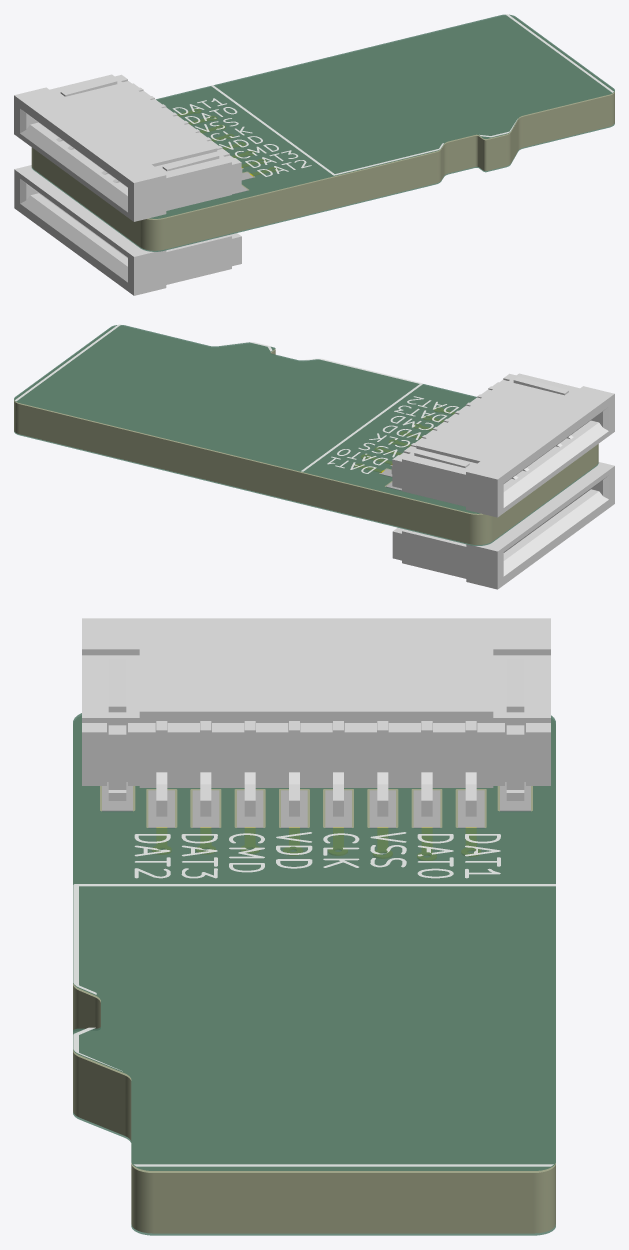
The model's file is board.glb.
3 renders of one model, top to bottom at view 1: azimuth 30°, elevation 25°; view 2: azimuth 150°, elevation 25°; view 3: azimuth 270°, elevation 25°, orthographic. The views are drawn at different scales.
Parts seen in each view (by area): view 1: board_PCB, board_soldermask (×2), HFW_R-1ST_LF (×2), board_silkscreen; view 2: board_PCB, board_soldermask (×2), HFW_R-1ST_LF (×2), board_silkscreen; view 3: board_PCB, board_soldermask (×2), HFW_R-1ST_LF, board_silkscreen, board_pad, board_copper.
Boxes of the visible parts, x1,y1,x2,y2 form: board_PCB: [31, 16, 614, 250]; board_soldermask (×2): [31, 14, 614, 251]; HFW_R-1ST_LF (×2): [14, 74, 242, 295]; board_silkscreen: [172, 14, 613, 176]; board_PCB: [14, 326, 598, 544]; board_soldermask (×2): [14, 325, 598, 545]; HFW_R-1ST_LF (×2): [391, 373, 614, 589]; board_silkscreen: [15, 324, 458, 473]; board_PCB: [73, 716, 555, 1233]; board_soldermask (×2): [73, 713, 555, 1235]; HFW_R-1ST_LF: [82, 618, 550, 816]; board_silkscreen: [73, 832, 555, 1166]; board_pad: [102, 782, 530, 828]; board_copper: [152, 827, 480, 860].
Bounding box in the file's own units: 0.0254 × 0.0055 × 0.0109.
